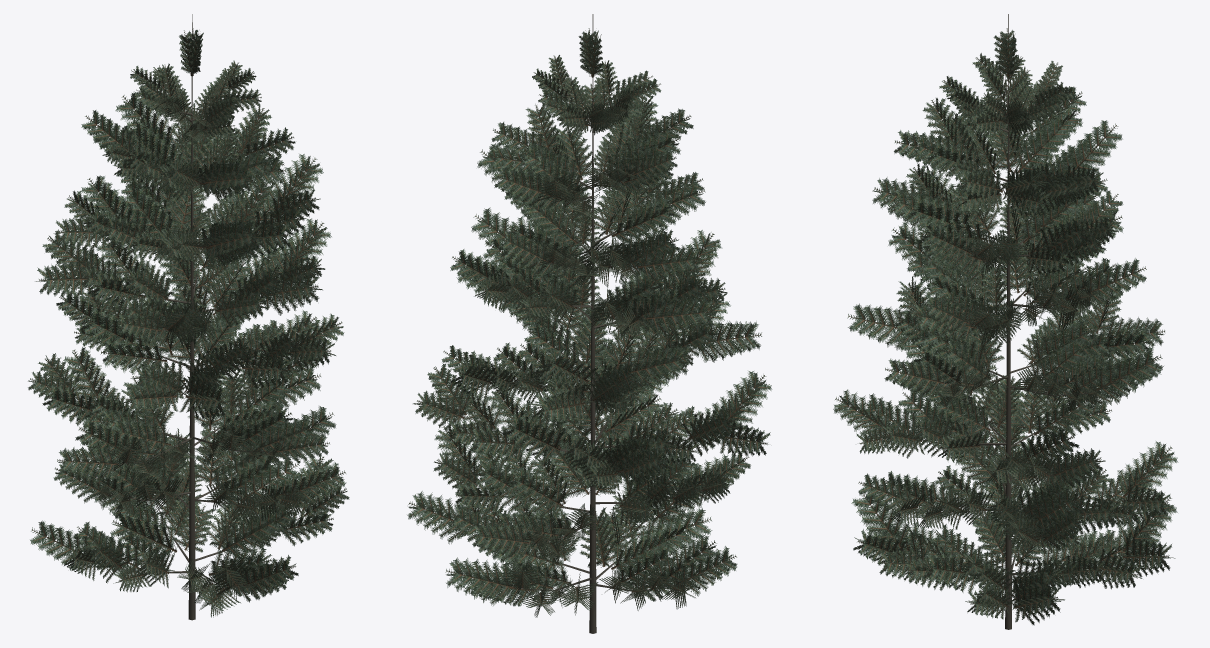
The model's file is Sitka_Seedling_01_LOD0.fbx.
3 views of the same model, side by side, from view 1: azimuth 30°, elevation 25°; view 2: azimuth 150°, elevation 25°; view 3: azimuth 270°, elevation 25° (orthographic). The views are drawn at different scales.
Visible parts, largest first — view 1: Sitka_Seedling_01_LOD0_Foliage, Sitka_Seedling_01_LOD0_Stem, Sitka_Seedling_01_LOD0_Branches; view 2: Sitka_Seedling_01_LOD0_Foliage, Sitka_Seedling_01_LOD0_Stem, Sitka_Seedling_01_LOD0_Branches; view 3: Sitka_Seedling_01_LOD0_Foliage, Sitka_Seedling_01_LOD0_Stem, Sitka_Seedling_01_LOD0_Branches.
Part boxes in pixels (x1,y1,x2,y2): Sitka_Seedling_01_LOD0_Foliage: (28, 28, 349, 617); Sitka_Seedling_01_LOD0_Stem: (188, 14, 195, 620); Sitka_Seedling_01_LOD0_Branches: (75, 85, 303, 588); Sitka_Seedling_01_LOD0_Foliage: (407, 28, 772, 617); Sitka_Seedling_01_LOD0_Stem: (589, 14, 596, 633); Sitka_Seedling_01_LOD0_Branches: (462, 82, 717, 591); Sitka_Seedling_01_LOD0_Foliage: (833, 28, 1178, 625); Sitka_Seedling_01_LOD0_Stem: (1005, 14, 1011, 629); Sitka_Seedling_01_LOD0_Branches: (887, 77, 1129, 610).
Size of the model in its own units: 59.06 by 100 by 55.68.
